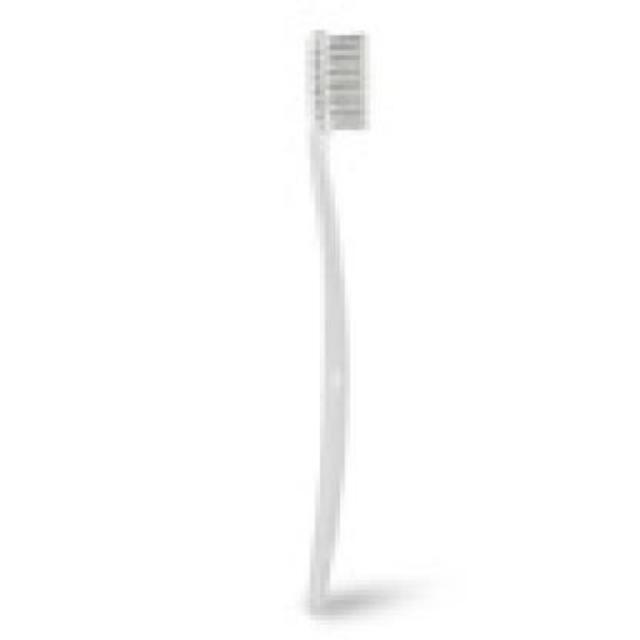toothbrush: (286, 19, 390, 625)
